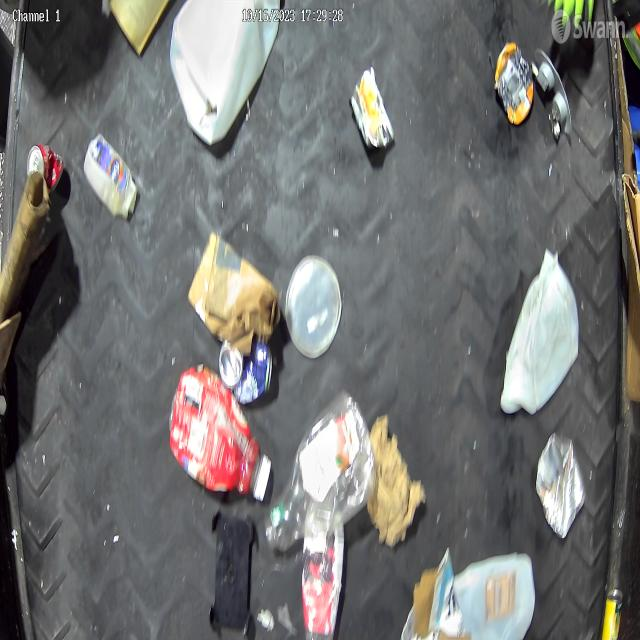can: (302, 511, 342, 640), (217, 335, 270, 416), (24, 144, 70, 207)
milk_jug: (172, 0, 294, 147), (497, 246, 579, 421), (448, 553, 534, 640)
non_white_jug: (169, 358, 271, 510)
plastic_bottle: (261, 394, 373, 548)
